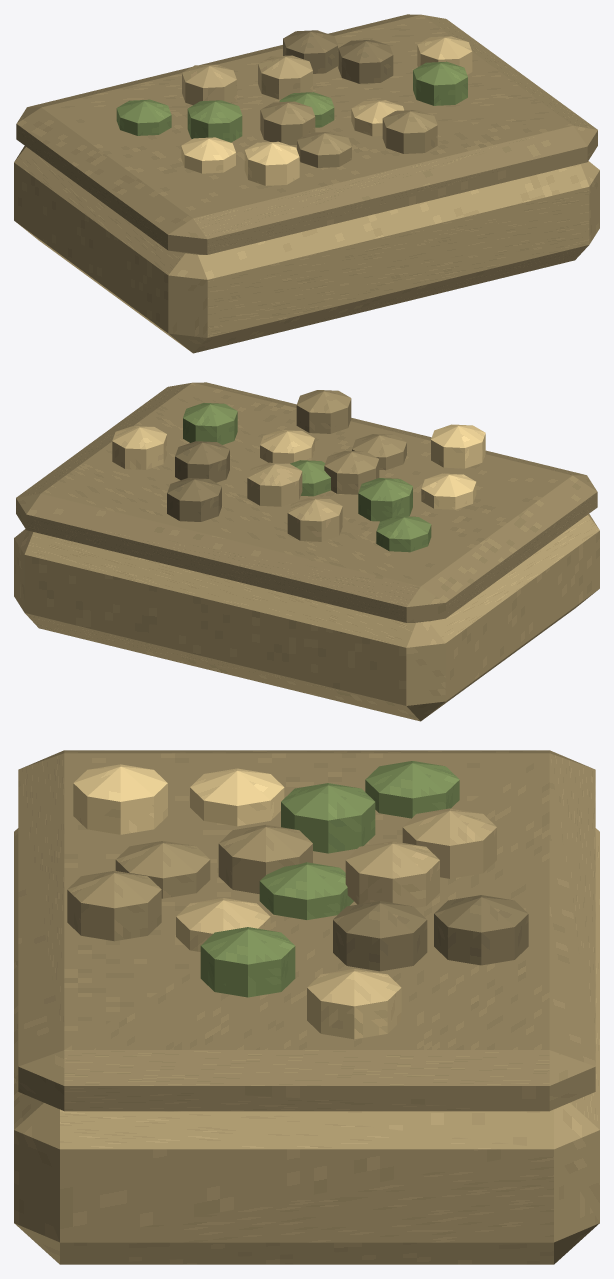
The model's file is tuna_noodle_casserole.glb.
3 views of the same model, one above another, from view 1: azimuth 30°, elevation 25°; view 2: azimuth 150°, elevation 25°; view 3: azimuth 270°, elevation 25° (orthographic). The views are drawn at different scales.
Visible parts, largest first — view 1: block_browned baked crust, block_cut casserole portion, block_pieces in cooked dish (×15); view 2: block_browned baked crust, block_cut casserole portion, block_pieces in cooked dish (×15); view 3: block_browned baked crust, block_cut casserole portion, block_pieces in cooked dish (×15).
Part boxes in pixels (left/top/right/bottom): block_browned baked crust: left=16, top=14, right=597, bottom=254; block_cut casserole portion: left=14, top=146, right=599, bottom=353; block_pieces in cooked dish (×15): left=116, top=30, right=472, bottom=185; block_browned baked crust: left=16, top=382, right=597, bottom=622; block_cut casserole portion: left=14, top=514, right=599, bottom=721; block_pieces in cooked dish (×15): left=112, top=390, right=485, bottom=552; block_browned baked crust: left=18, top=750, right=595, bottom=1111; block_cut casserole portion: left=14, top=828, right=599, bottom=1264; block_pieces in cooked dish (×15): left=67, top=761, right=528, bottom=1039.
Size of the model in its own units: 0.1203 by 0.046 by 0.0884.
1 material, 1 textured.
